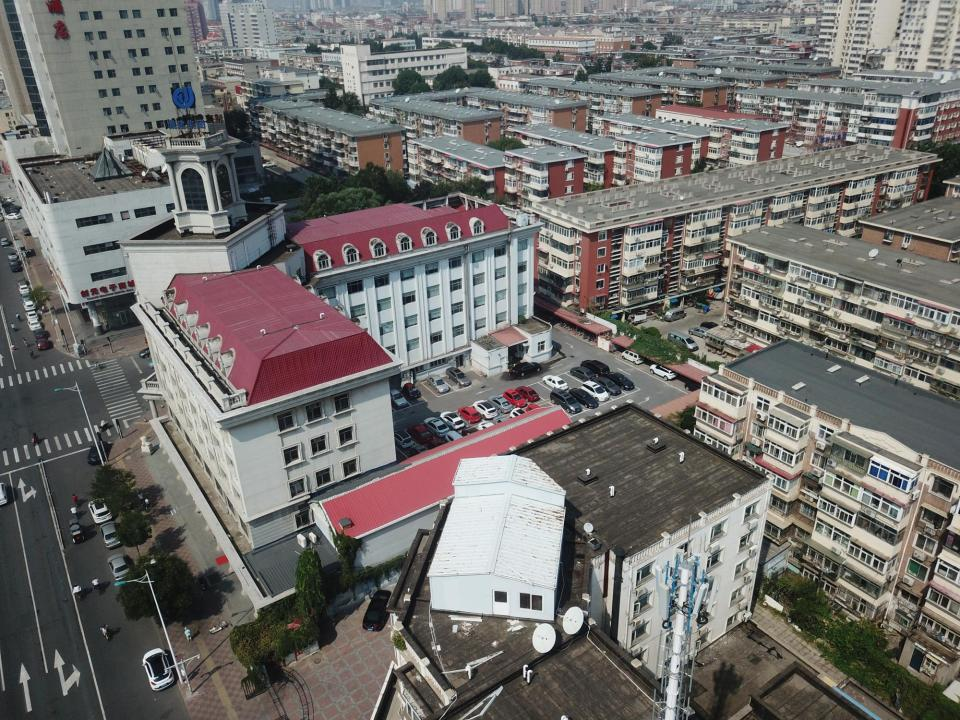car: (141, 647, 175, 692), (362, 589, 392, 633), (549, 388, 582, 415), (107, 552, 133, 581), (87, 497, 113, 525), (567, 387, 600, 408), (99, 520, 122, 550), (649, 360, 678, 381), (592, 376, 622, 396), (604, 372, 635, 391), (581, 380, 609, 401), (86, 440, 110, 464), (444, 366, 470, 387), (477, 421, 503, 442), (423, 417, 450, 437), (580, 359, 610, 377), (444, 430, 469, 451), (509, 407, 534, 428), (408, 423, 434, 443), (472, 400, 498, 420), (438, 411, 465, 430), (486, 394, 513, 413), (461, 426, 486, 446), (492, 415, 517, 435), (426, 374, 450, 394), (391, 429, 414, 449), (502, 388, 526, 407), (512, 361, 542, 376), (542, 374, 568, 391), (410, 444, 433, 463), (386, 388, 407, 408), (515, 385, 539, 402), (138, 345, 167, 359), (525, 403, 548, 420), (458, 406, 481, 423), (570, 366, 596, 381), (684, 378, 708, 394), (427, 438, 447, 457), (688, 326, 713, 340), (402, 382, 420, 399), (700, 321, 721, 332), (147, 358, 170, 368), (34, 338, 50, 351), (27, 319, 42, 331), (25, 310, 39, 322), (22, 300, 36, 312), (32, 328, 47, 339), (15, 277, 27, 287), (4, 213, 21, 220), (18, 285, 30, 294), (21, 227, 32, 236), (8, 264, 20, 272), (2, 208, 18, 214), (1, 202, 15, 208), (8, 257, 18, 265), (0, 238, 10, 246), (7, 252, 17, 259), (1, 197, 15, 202)
van: (667, 329, 699, 353), (621, 348, 646, 366), (662, 307, 685, 322), (22, 294, 30, 302)
